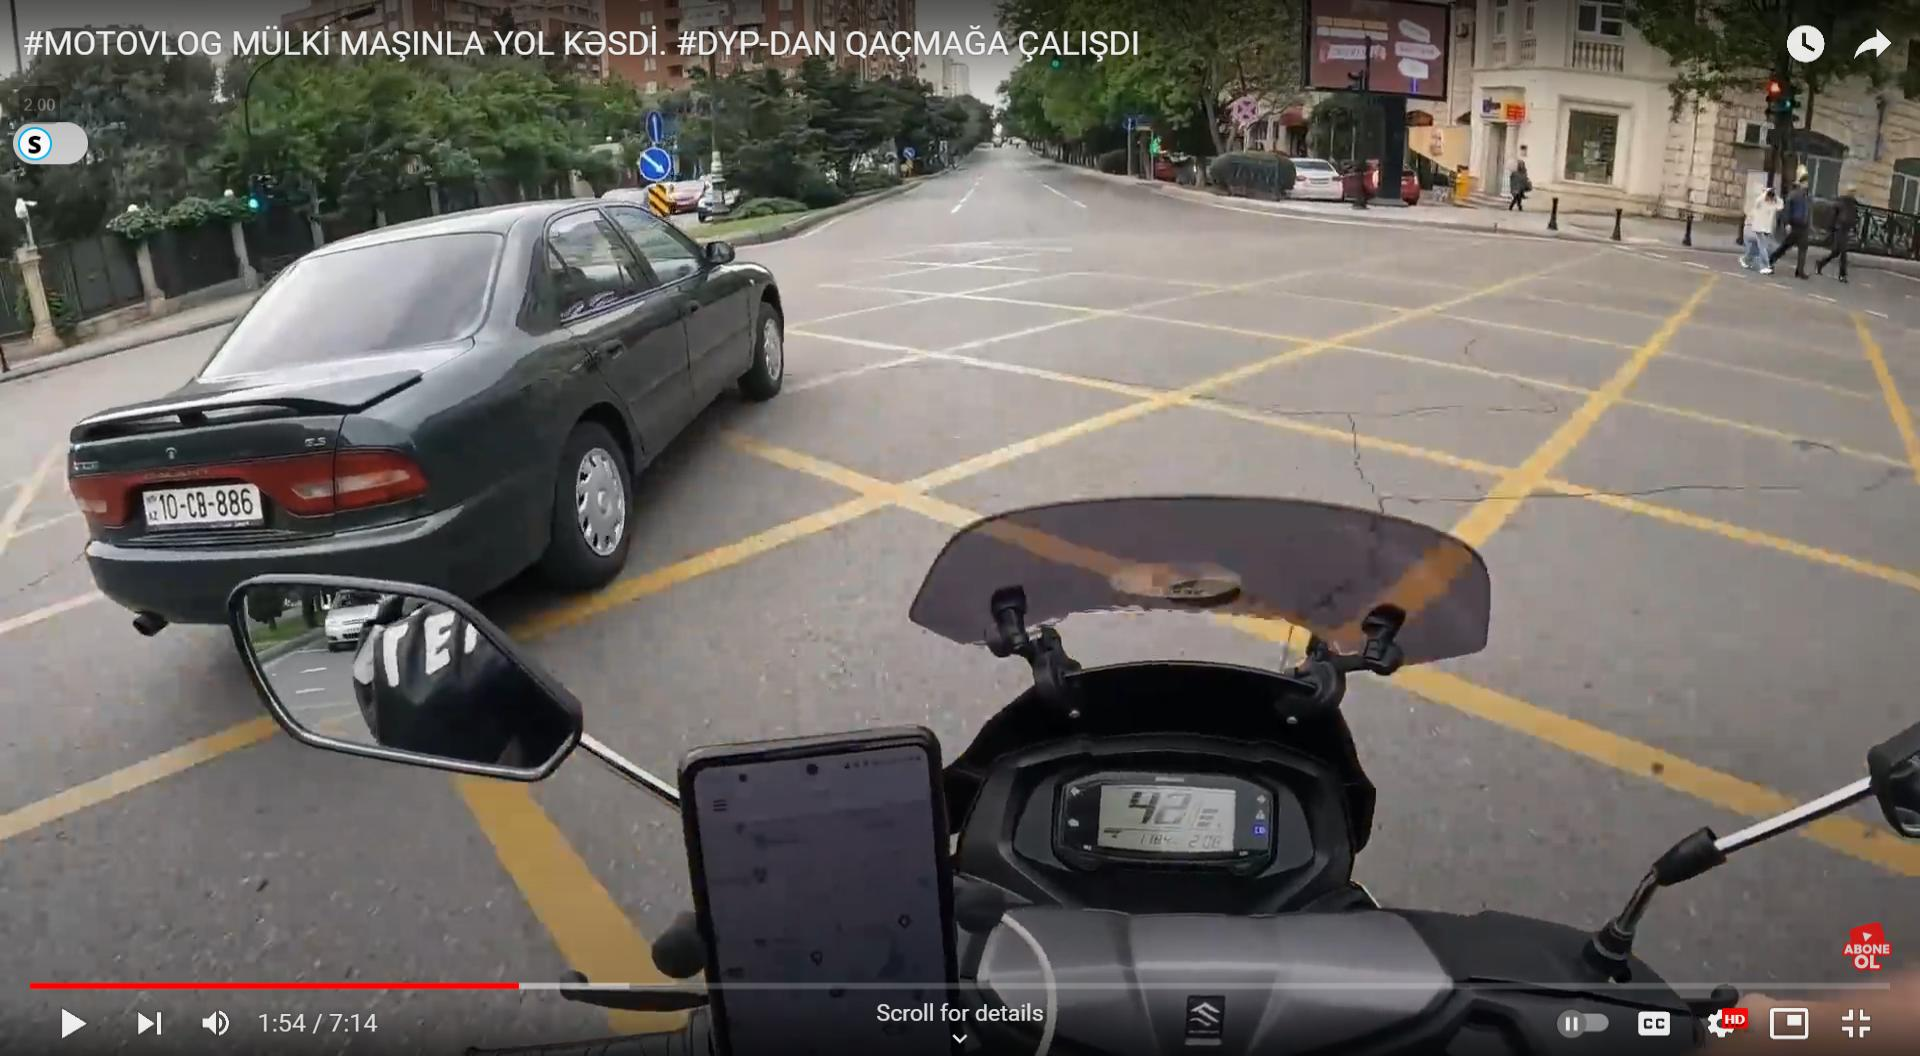banner: (1307, 3, 1453, 98)
